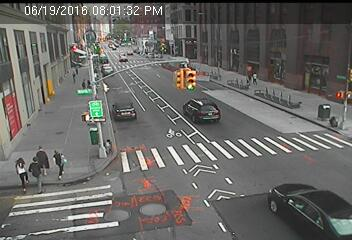neg: (244, 159, 273, 196), (106, 84, 132, 118), (138, 166, 164, 200), (22, 102, 47, 136), (289, 185, 314, 218), (243, 25, 267, 56), (39, 58, 62, 90), (172, 62, 195, 93), (92, 201, 115, 232), (14, 22, 36, 53), (299, 43, 321, 72), (200, 165, 222, 193), (74, 92, 95, 120), (235, 117, 256, 145), (175, 105, 194, 130), (312, 102, 331, 127), (93, 156, 112, 181), (281, 134, 299, 158), (134, 41, 150, 63), (276, 53, 292, 75), (91, 127, 107, 149), (207, 85, 223, 106), (248, 77, 262, 97), (138, 130, 152, 149), (269, 93, 280, 108), (90, 49, 100, 63)
pos: (50, 147, 74, 180), (24, 157, 48, 189), (9, 156, 31, 185), (32, 142, 50, 166)
